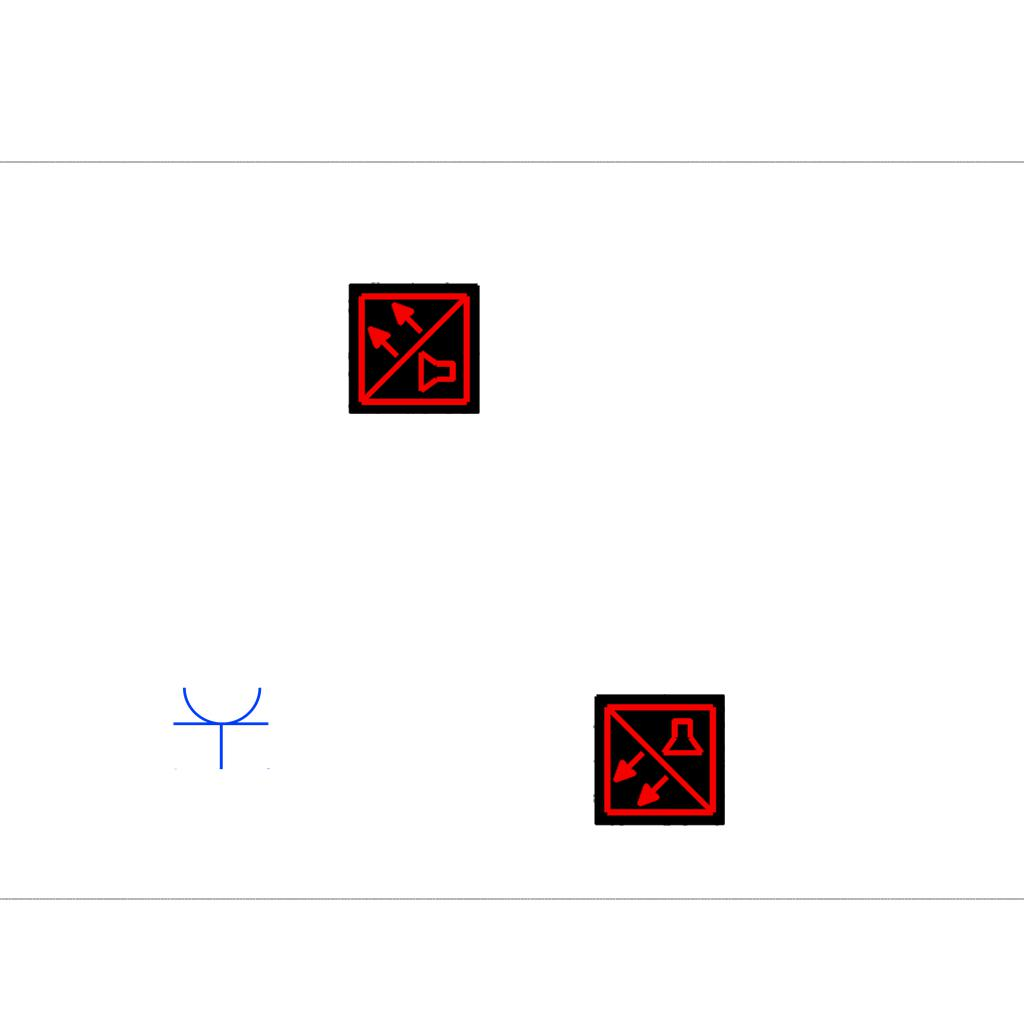OKW_Multisensormelder_(Kombination_optischer_Rauch-Kahlenmonoxid_Waerme-Melder): (348, 282, 480, 414), (593, 694, 725, 826)
Schukosteckdose_einfach: (172, 683, 272, 770)
